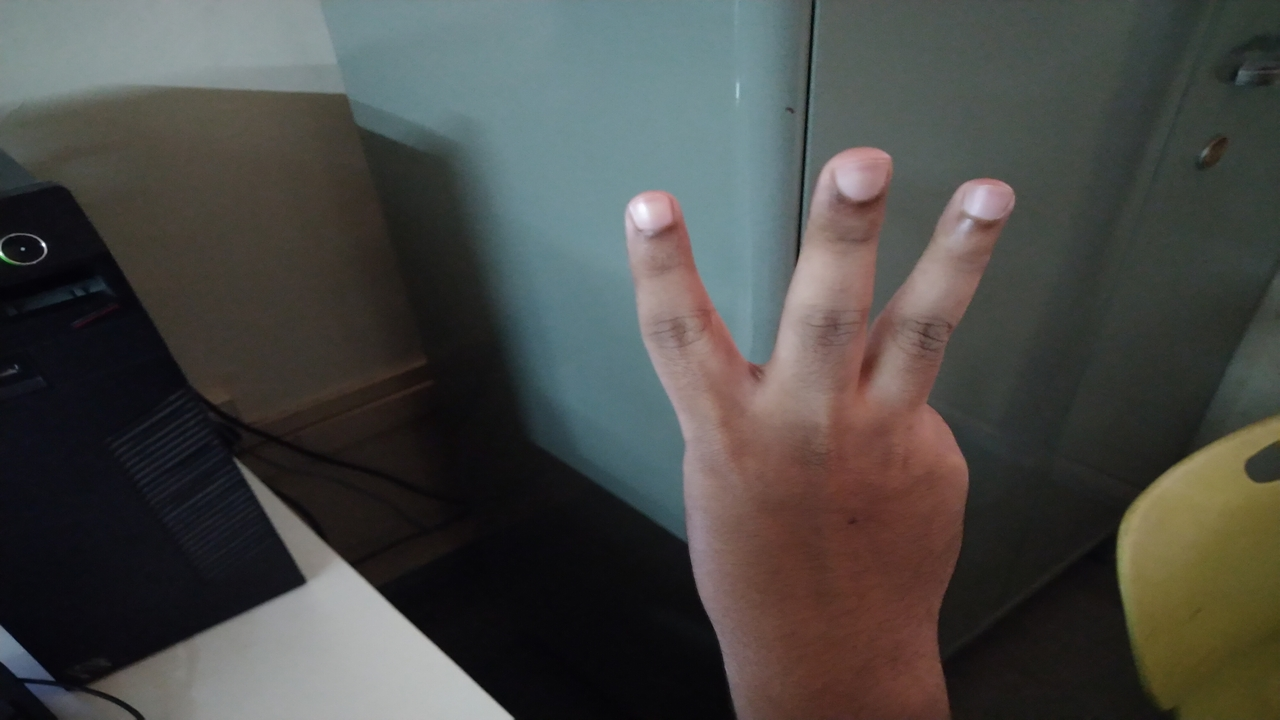fingertip: (810, 148, 902, 212), (944, 170, 1032, 234), (618, 182, 690, 248)
